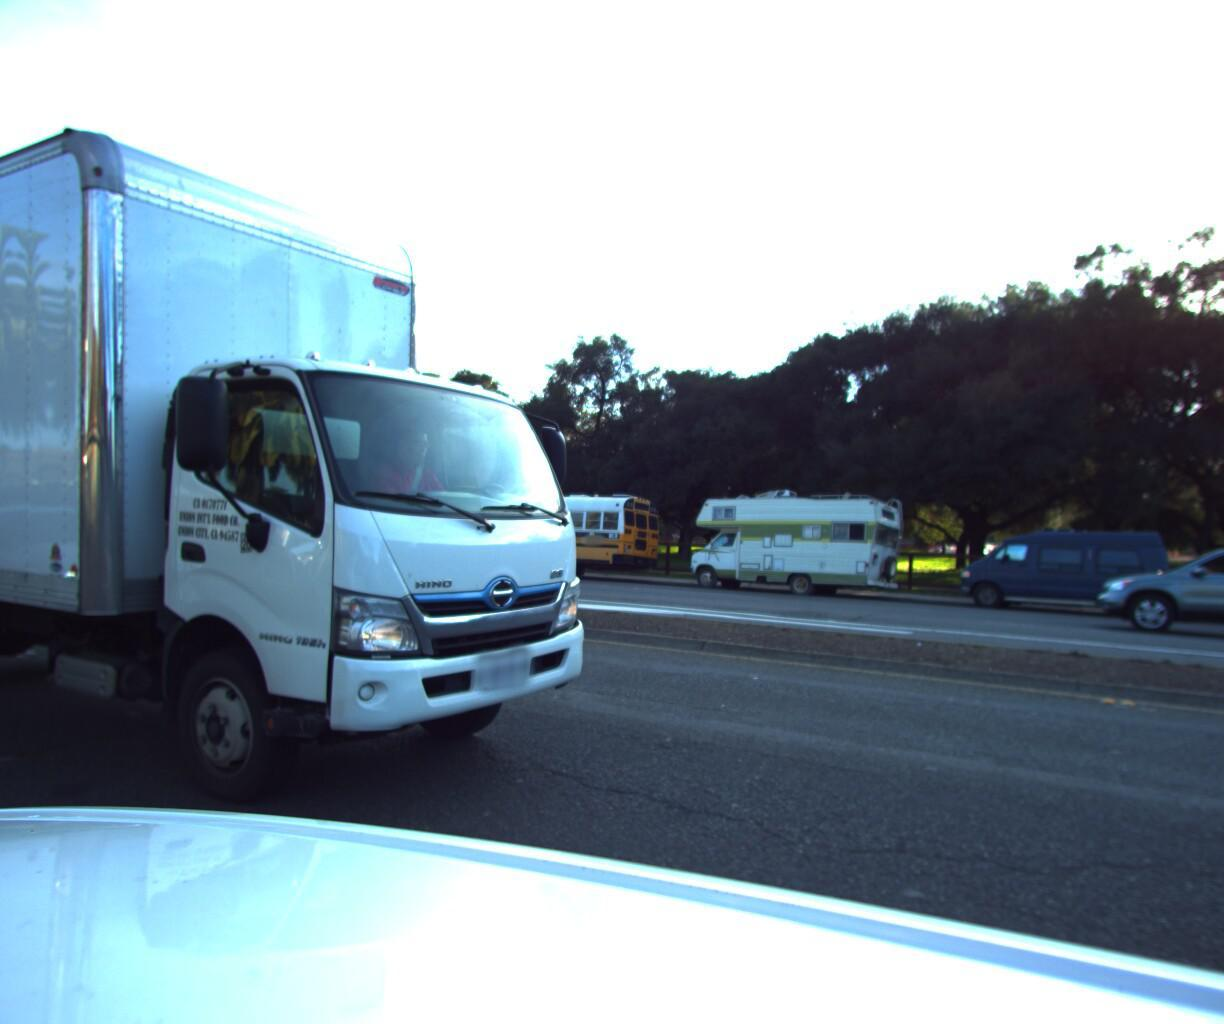bus: (373, 484, 665, 584)
car: (948, 517, 1192, 625), (1101, 520, 1224, 656)
other_vehicle: (678, 479, 913, 601)
truck: (0, 0, 652, 930)
